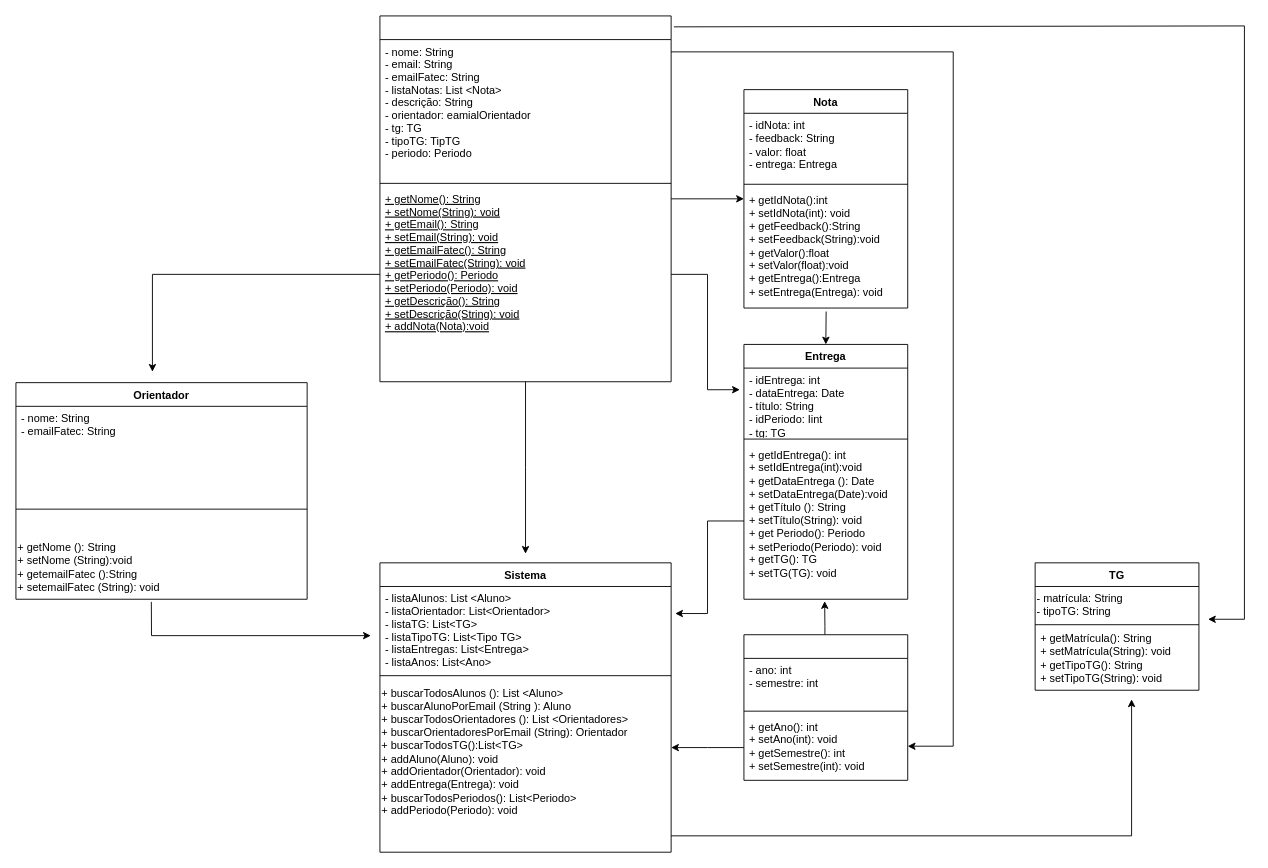
The diagram is 1268 pixels wide and 868 high, and some of its shapes have lost their labels. The shapes that lost their labels are listed below. From the top down, each one's box as (x1, y1, x2, y2) in pixels, then its label:
(379, 15, 671, 382): Aluno
(743, 634, 908, 780): Período
